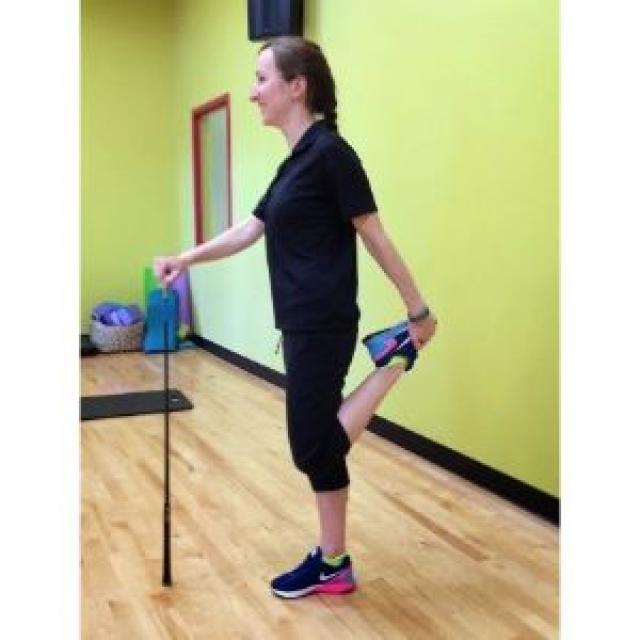adult: (150, 40, 440, 640)
